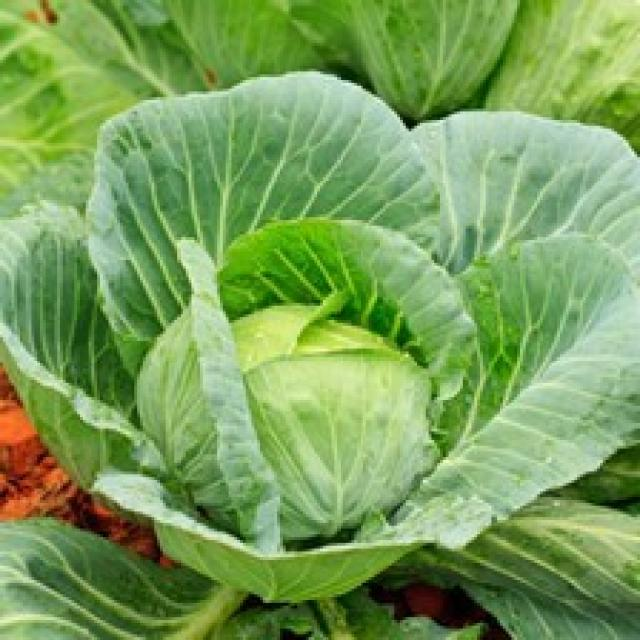Cabbage: (0, 69, 637, 603)
